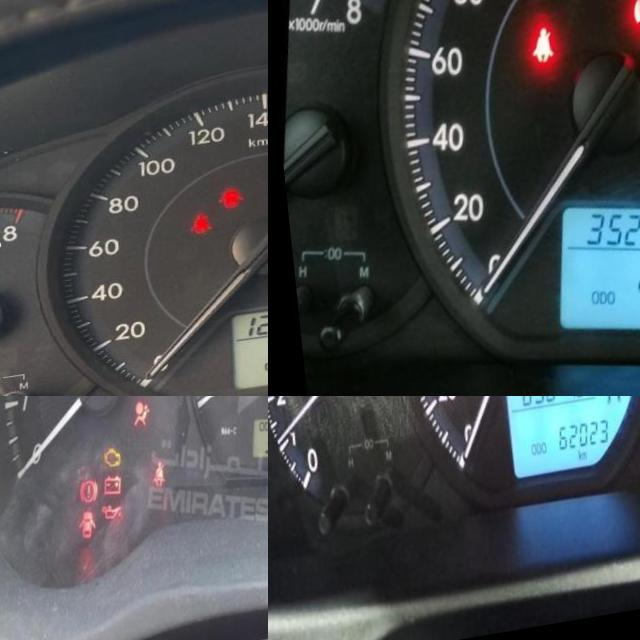Seat Belt: (525, 34, 550, 77), (181, 221, 202, 245), (142, 469, 157, 495)
